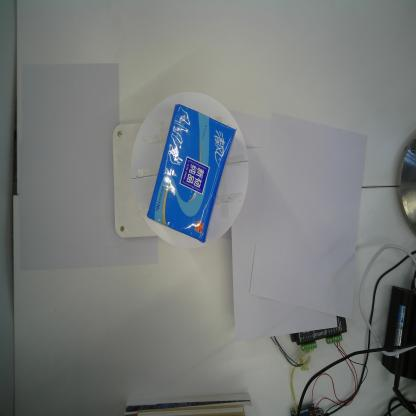Tissue: (147, 100, 238, 249)
